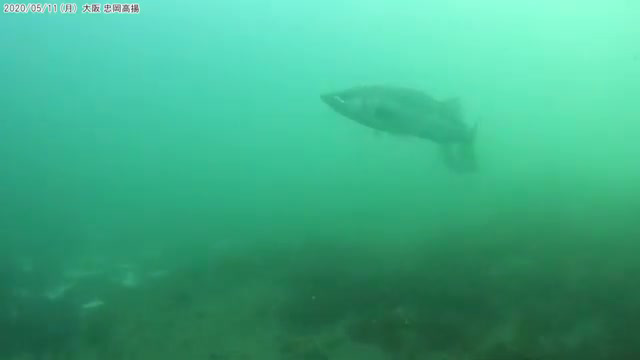smallfish: (318, 78, 483, 155)
